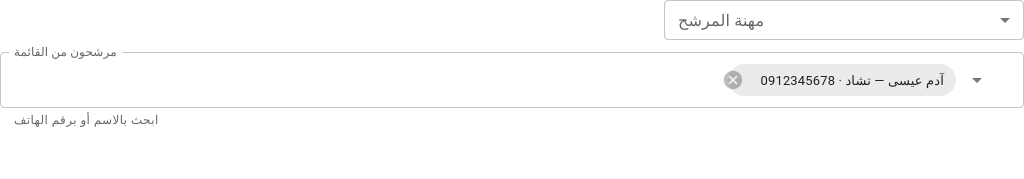
candidate picker (TL-N13) › does not offer a candidate that is already chosen
Press the mouse on the dropdown labelled "مرشحون من القائمة" at (367, 80), box [9,61,724,99]
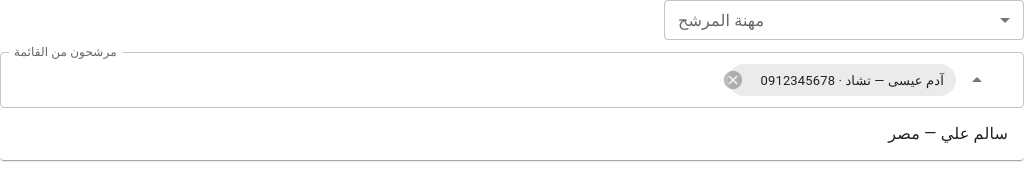
Check: the option "سالم علي — مصر" is shown, box [888,124,1008,143]
